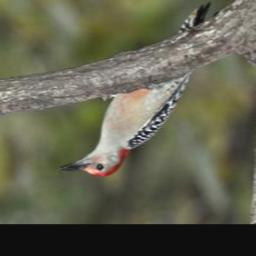Woodpecker: (59, 2, 212, 179)
